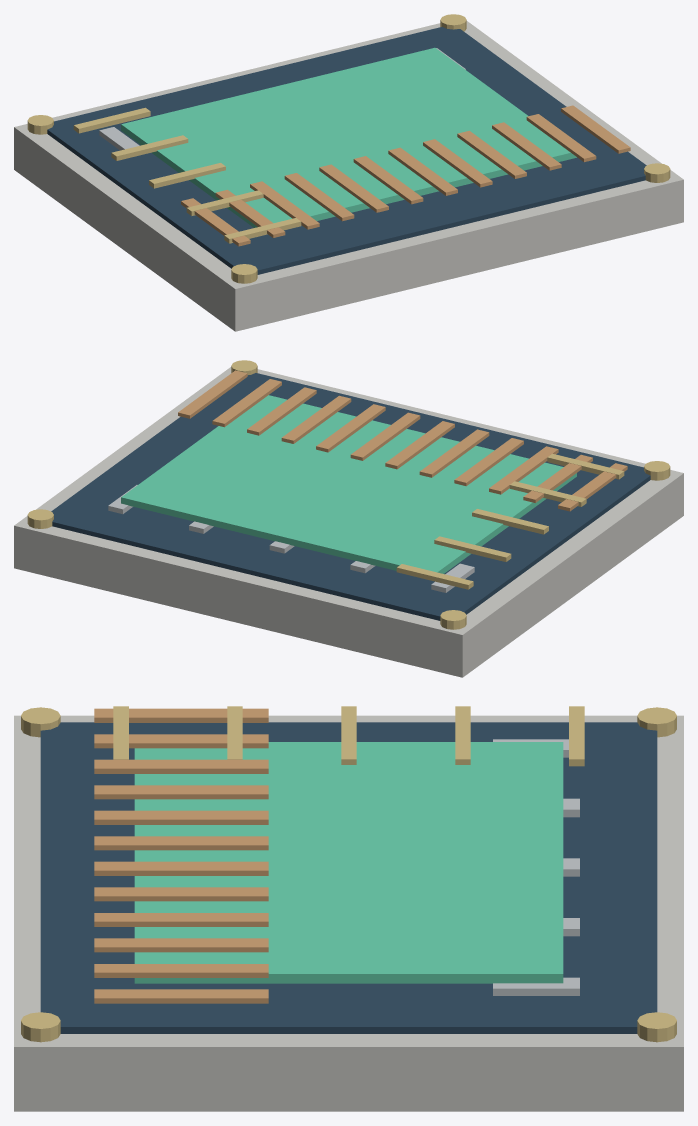
Rendered from 09_L79_SensorChiplet.glb.
3 views of the same model, one above another, from view 1: azimuth 30°, elevation 25°; view 2: azimuth 150°, elevation 25°; view 3: azimuth 270°, elevation 25° (orthographic). The views are drawn at different scales.
Parts seen in each view (by area): view 1: SensorChiplet_Node_0000, SensorChiplet_Node_0002, SensorChiplet_Node_0001, SensorChiplet_Node_0008, SensorChiplet_Node_0009, SensorChiplet_Node_0013, SensorChiplet_Node_0014, SensorChiplet_Node_0006, SensorChiplet_Node_0007, SensorChiplet_Node_0010, SensorChiplet_Node_0011, SensorChiplet_Node_0012 (+9 smaller); view 2: SensorChiplet_Node_0000, SensorChiplet_Node_0002, SensorChiplet_Node_0001, SensorChiplet_Node_0009, SensorChiplet_Node_0007, SensorChiplet_Node_0010, SensorChiplet_Node_0011, SensorChiplet_Node_0006, SensorChiplet_Node_0008, SensorChiplet_Node_0012, SensorChiplet_Node_0013, SensorChiplet_Node_0014 (+8 smaller); view 3: SensorChiplet_Node_0002, SensorChiplet_Node_0001, SensorChiplet_Node_0000, SensorChiplet_Node_0005, SensorChiplet_Node_0006, SensorChiplet_Node_0007, SensorChiplet_Node_0008, SensorChiplet_Node_0009, SensorChiplet_Node_0010, SensorChiplet_Node_0012, SensorChiplet_Node_0014, SensorChiplet_Node_0011 (+13 smaller).
Part boxes in pixels (x1,y1,x2,y2): SensorChiplet_Node_0000: [14, 21, 683, 331]; SensorChiplet_Node_0002: [121, 47, 576, 227]; SensorChiplet_Node_0001: [47, 27, 646, 274]; SensorChiplet_Node_0008: [353, 156, 423, 204]; SensorChiplet_Node_0009: [388, 147, 457, 195]; SensorChiplet_Node_0013: [526, 114, 596, 162]; SensorChiplet_Node_0014: [561, 105, 630, 153]; SensorChiplet_Node_0006: [284, 173, 354, 221]; SensorChiplet_Node_0007: [319, 164, 388, 212]; SensorChiplet_Node_0010: [423, 139, 492, 187]; SensorChiplet_Node_0011: [457, 130, 526, 178]; SensorChiplet_Node_0012: [492, 122, 561, 170]; SensorChiplet_Node_0000: [14, 367, 683, 677]; SensorChiplet_Node_0002: [121, 395, 576, 573]; SensorChiplet_Node_0001: [51, 373, 650, 620]; SensorChiplet_Node_0009: [350, 412, 420, 460]; SensorChiplet_Node_0007: [419, 429, 489, 477]; SensorChiplet_Node_0010: [316, 404, 385, 452]; SensorChiplet_Node_0011: [281, 395, 351, 443]; SensorChiplet_Node_0006: [454, 438, 523, 486]; SensorChiplet_Node_0008: [385, 421, 454, 469]; SensorChiplet_Node_0012: [247, 387, 316, 435]; SensorChiplet_Node_0013: [212, 379, 281, 427]; SensorChiplet_Node_0014: [178, 370, 247, 418]; SensorChiplet_Node_0002: [134, 742, 563, 983]; SensorChiplet_Node_0001: [40, 722, 657, 1033]; SensorChiplet_Node_0000: [14, 715, 683, 1111]; SensorChiplet_Node_0005: [94, 759, 268, 773]; SensorChiplet_Node_0006: [94, 785, 268, 799]; SensorChiplet_Node_0007: [94, 810, 268, 824]; SensorChiplet_Node_0008: [94, 836, 268, 850]; SensorChiplet_Node_0009: [94, 861, 268, 875]; SensorChiplet_Node_0010: [94, 887, 268, 901]; SensorChiplet_Node_0012: [94, 938, 268, 952]; SensorChiplet_Node_0014: [94, 989, 268, 1003]; SensorChiplet_Node_0011: [94, 913, 268, 926].
Size of the model in its own units: 1.1 by 0.1575 by 0.94.
